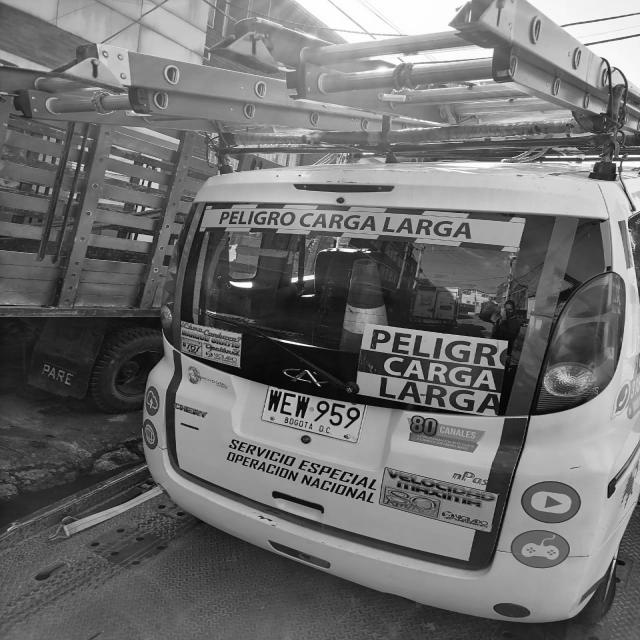plate: (258, 379, 373, 448)
